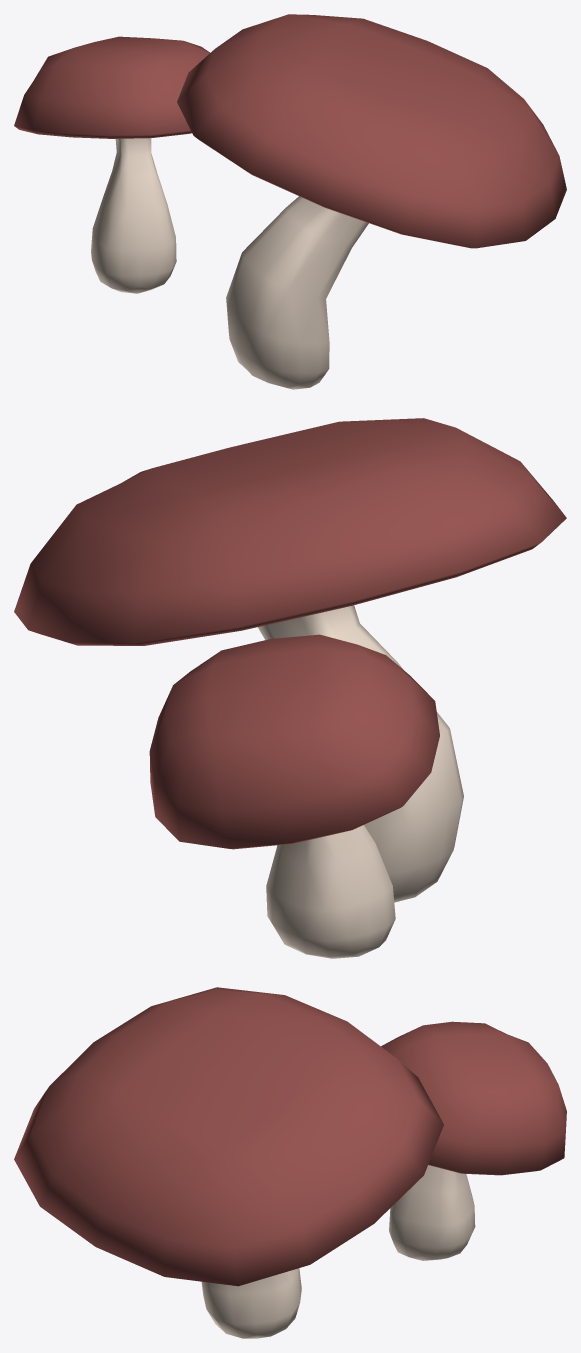
Rendered from Mushroom_1.fbx.
The picture shows the model from 3 angles, top to bottom: view 1: azimuth 30°, elevation 25°; view 2: azimuth 150°, elevation 25°; view 3: azimuth 270°, elevation 25°; orthographic projection. The views are drawn at different scales.
Parts seen in each view (by area): view 1: Mush.007; view 2: Mush.007; view 3: Mush.007.
Boxes of the visible parts, x1,y1,x2,y2 form: Mush.007: (14, 14, 566, 389); Mush.007: (14, 418, 566, 958); Mush.007: (14, 987, 566, 1338).
Bounding box in the file's own units: 793 × 617 × 959.
